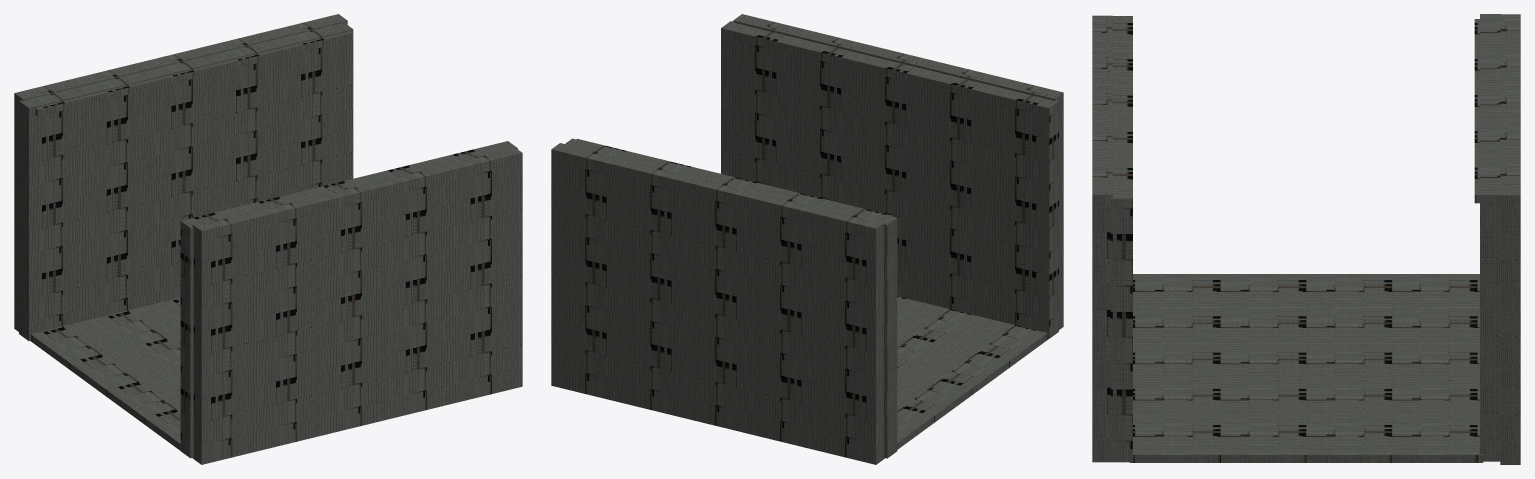
The model's file is dungeon_room_passage.glb.
3 renders of one model, left to right at view 1: azimuth 30°, elevation 25°; view 2: azimuth 150°, elevation 25°; view 3: azimuth 270°, elevation 25°, orthographic. The views are drawn at different scales.
Parts seen in each view (by area): view 1: dungeon_room_passage; view 2: dungeon_room_passage; view 3: dungeon_room_passage.
Boxes of the visible parts, x1,y1,x2,y2 form: dungeon_room_passage: (14,14,522,464); dungeon_room_passage: (551,14,1063,464); dungeon_room_passage: (1092,14,1520,464).
Size of the model in its own units: 5.05 by 3.47 by 5.
Materials: 1 (1 with a texture image).
